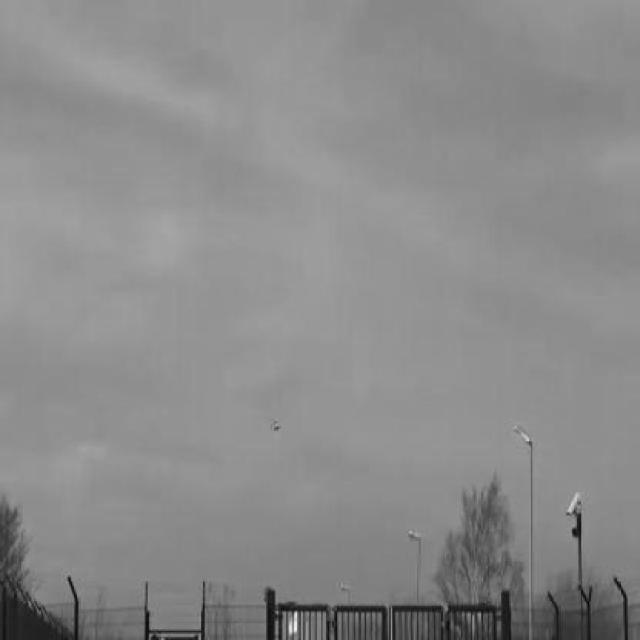helikopter: (266, 413, 282, 438)
